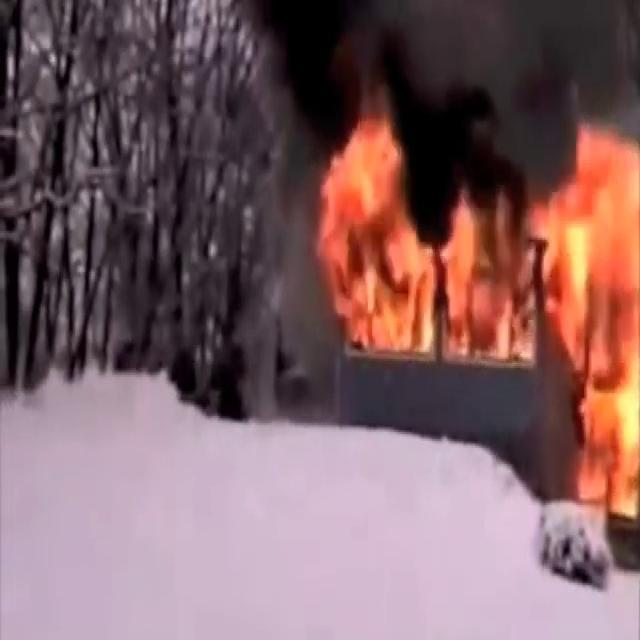Fire: (310, 92, 540, 373), (542, 109, 640, 518)
